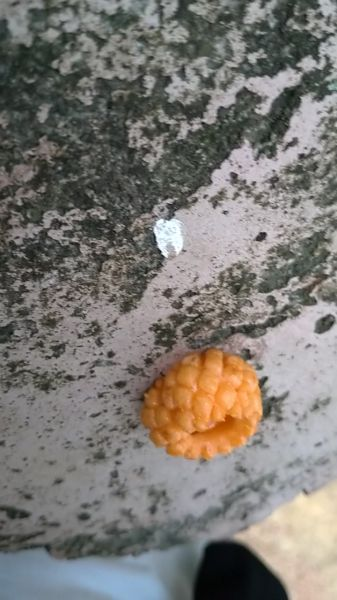eggs: (139, 340, 271, 467)
